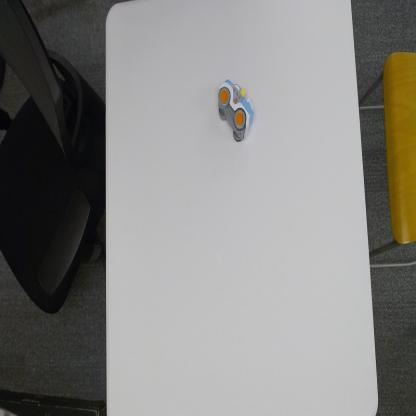Car: (215, 77, 255, 146)
